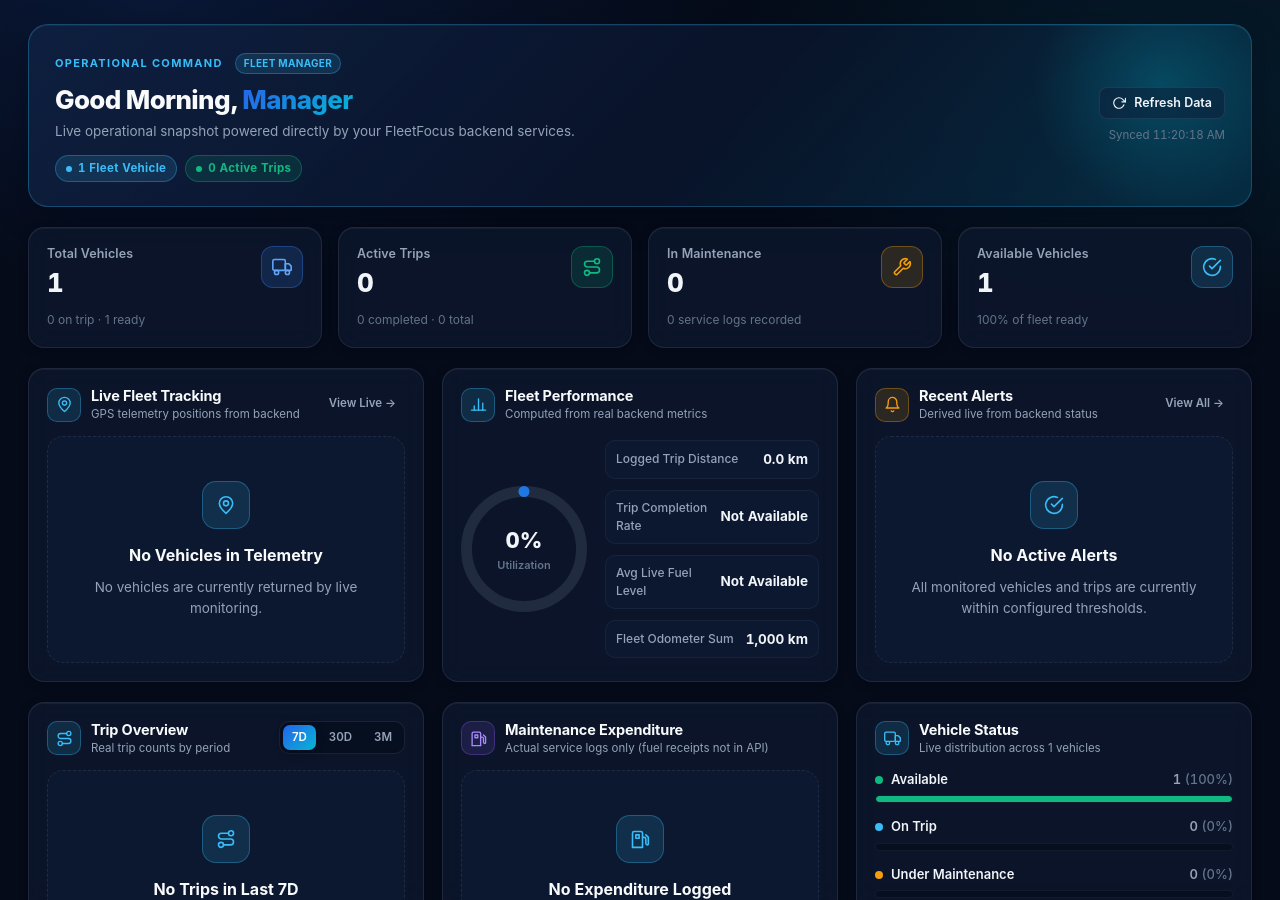
it: D6 — Dashboard values dynamically reflect updated backend responses on refresh
Step 1. Click the button "Refresh Data" → {"x": 1162, "y": 103}, box [1099, 87, 1225, 119]
(page scrolled)
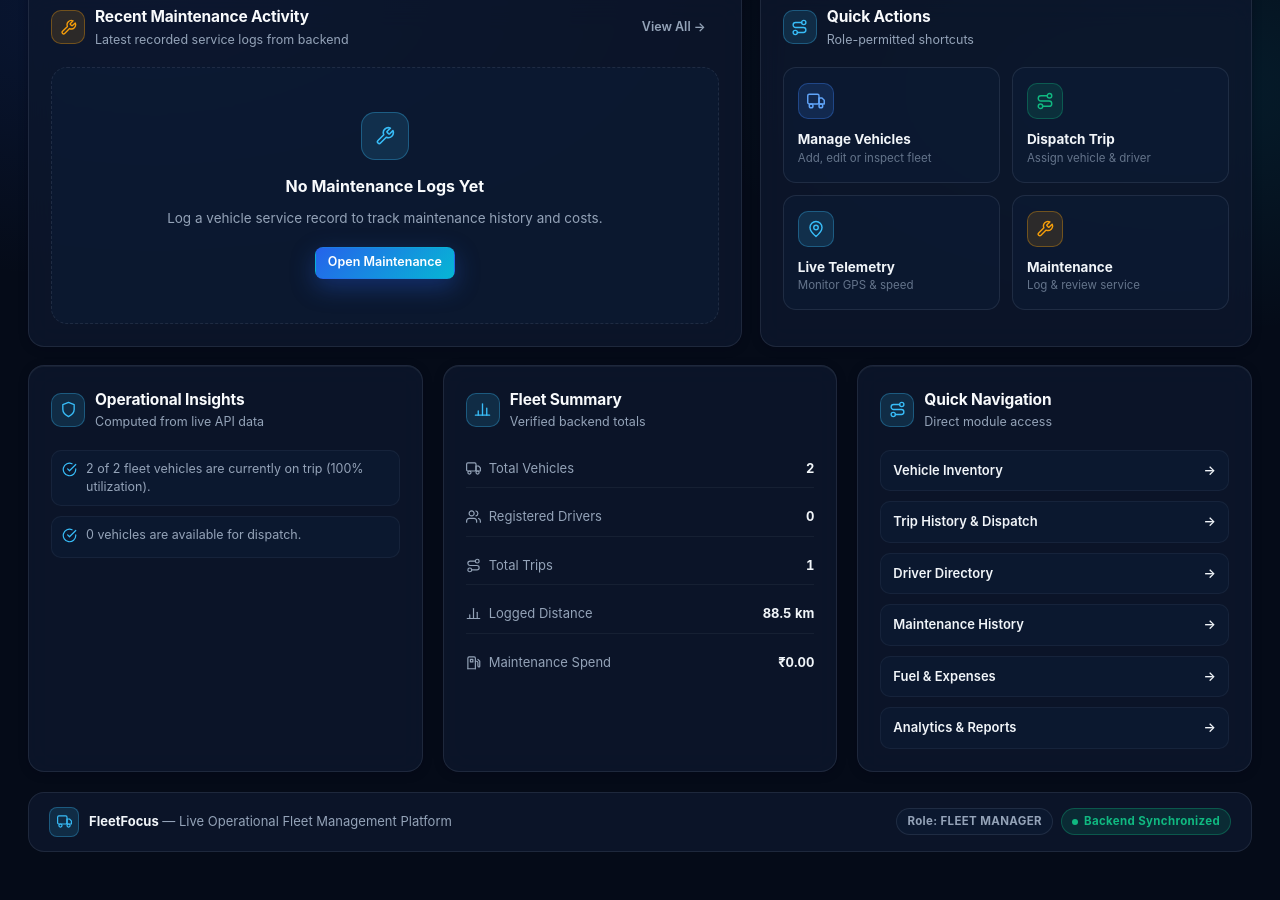
Result: the text "2 of 2 fleet vehicles are currently on trip (100% utilization)" is shown at [86, 461, 364, 494]
